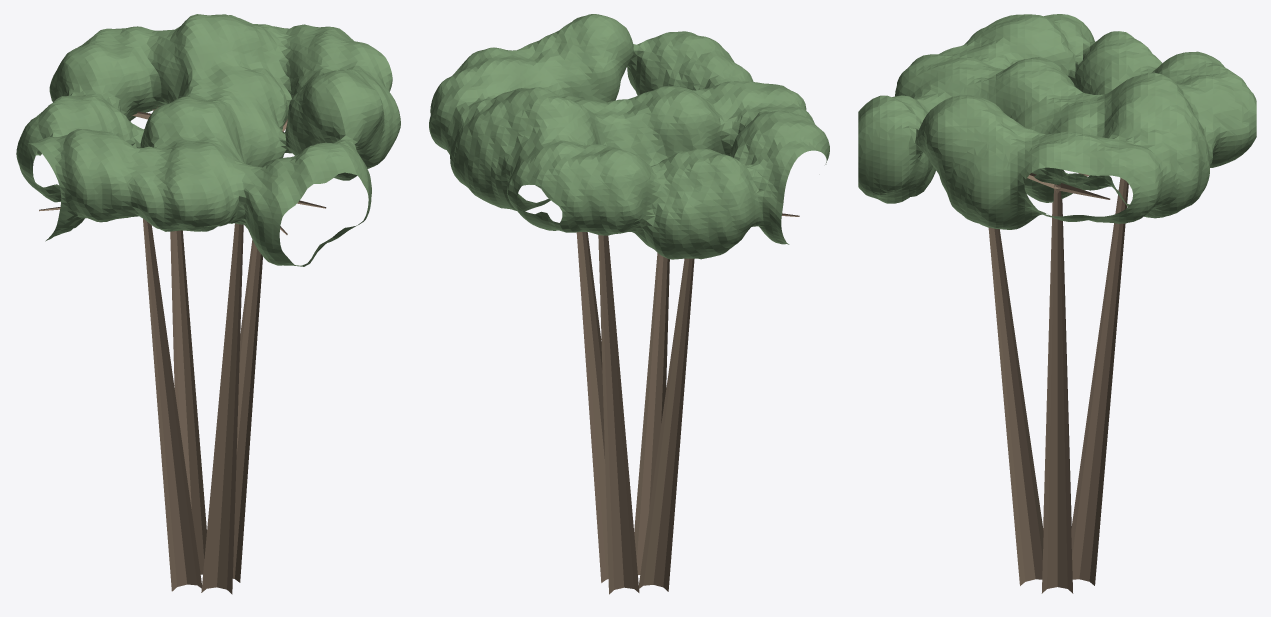
Rendered from taiga_alder.glb.
The picture shows the model from 3 angles, left to right: view 1: azimuth 30°, elevation 25°; view 2: azimuth 150°, elevation 25°; view 3: azimuth 270°, elevation 25°; orthographic projection. The views are drawn at different scales.
Visible parts, largest first — view 1: taiga_alder; view 2: taiga_alder; view 3: taiga_alder.
Part boxes in pixels (x1,y1,x2,y2): taiga_alder: (16,14,400,594); taiga_alder: (429,14,829,594); taiga_alder: (858,14,1256,593).
Size of the model in its own units: 4 by 5.92 by 4.
